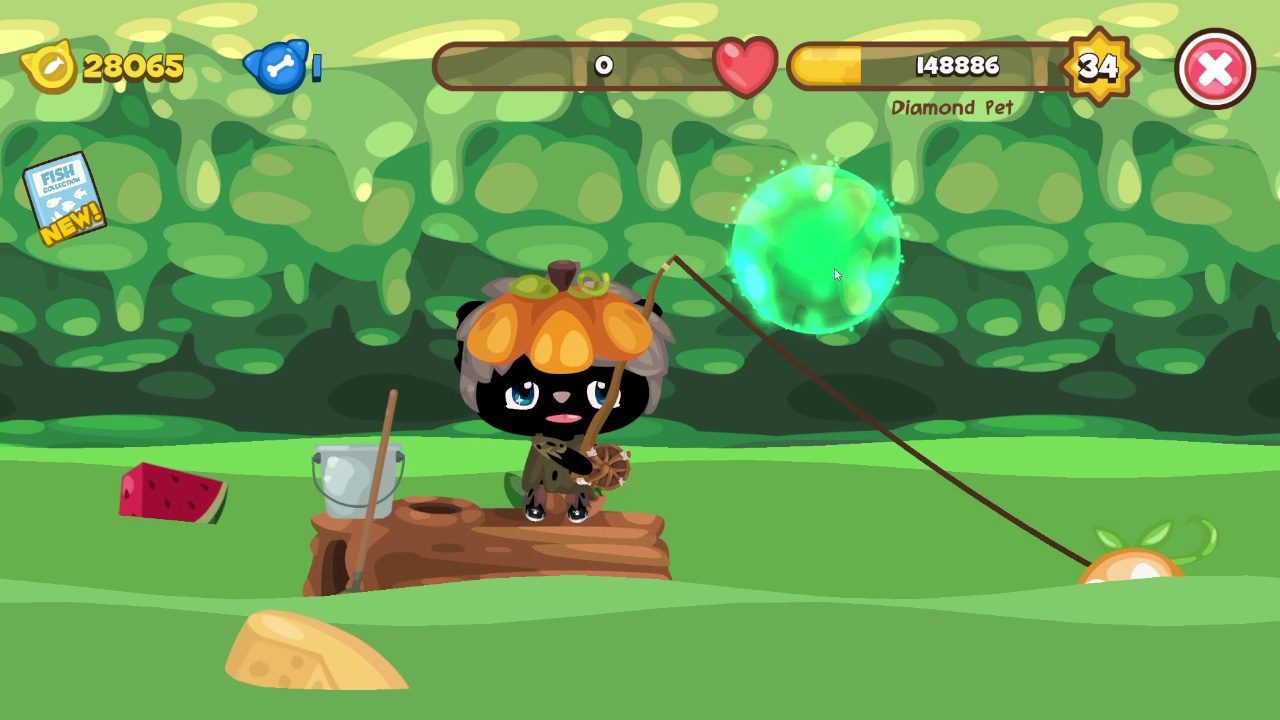point: (730, 164, 904, 334)
